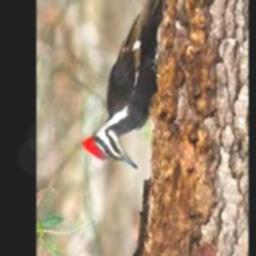Woodpecker: (83, 0, 164, 169)
